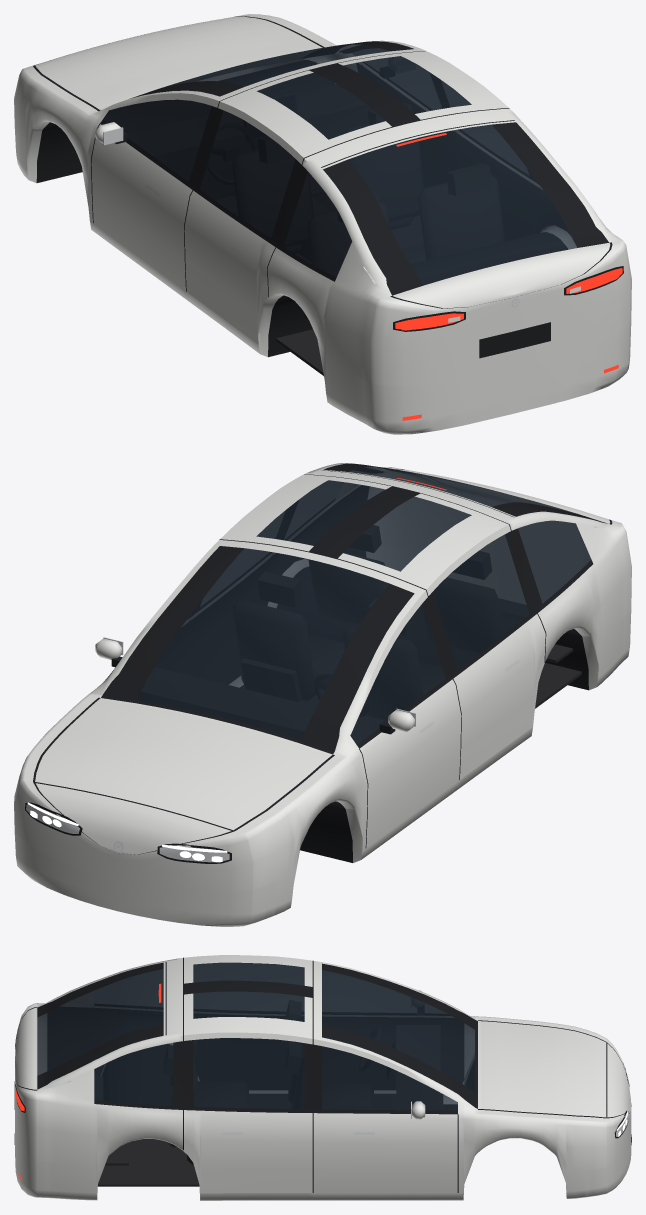
File: suv_body.glb
The picture shows the model from 3 angles, top to bottom: view 1: azimuth 30°, elevation 25°; view 2: azimuth 150°, elevation 25°; view 3: azimuth 270°, elevation 25°; orthographic projection. The views are drawn at different scales.
Parts seen in each view (by area): view 1: SuvBody, WingDoorLowerL, RearBumper, WingDoorUpperL, WingDoorUpperR, WingDoorLowerR; view 2: SuvBody, WingDoorLowerL, WingDoorUpperL, FrontBumper, WingDoorUpperR, WingDoorLowerR, RearBumper; view 3: SuvBody, WingDoorLowerR, WingDoorLowerL, WingDoorUpperR, WingDoorUpperL, RearBumper, FrontBumper.
Part boxes in pixels (left/top/right/bottom): SuvBody: left=14, top=14, right=631, bottom=419; WingDoorLowerL: left=184, top=101, right=303, bottom=352; RearBumper: left=355, top=322, right=631, bottom=434; WingDoorUpperL: left=220, top=66, right=405, bottom=157; WingDoorUpperR: left=324, top=51, right=508, bottom=122; WingDoorLowerR: left=436, top=77, right=544, bottom=240; SuvBody: left=14, top=463, right=631, bottom=915; WingDoorLowerL: left=426, top=524, right=545, bottom=779; WingDoorUpperL: left=323, top=490, right=508, bottom=589; FrontBumper: left=14, top=832, right=276, bottom=926; WingDoorUpperR: left=220, top=474, right=405, bottom=554; WingDoorLowerR: left=187, top=506, right=291, bottom=684; RearBumper: left=366, top=546, right=631, bottom=666; SuvBody: left=14, top=957, right=631, bottom=1200; WingDoorLowerR: left=184, top=1032, right=312, bottom=1199; WingDoorLowerL: left=193, top=963, right=304, bottom=1089; WingDoorUpperR: left=184, top=986, right=312, bottom=1038; WingDoorUpperL: left=184, top=955, right=312, bottom=992; RearBumper: left=14, top=1063, right=56, bottom=1198; FrontBumper: left=585, top=1134, right=631, bottom=1197.
Bounding box in the file's own units: 2.29 × 1.48 × 4.99.
